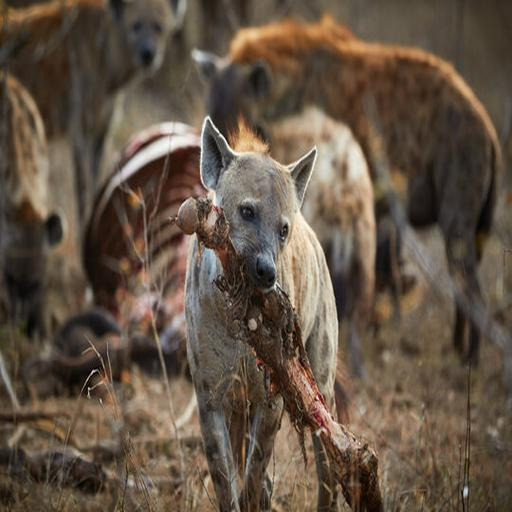Hyena: (189, 29, 510, 396), (184, 120, 381, 512), (0, 0, 178, 305), (0, 65, 58, 346)
